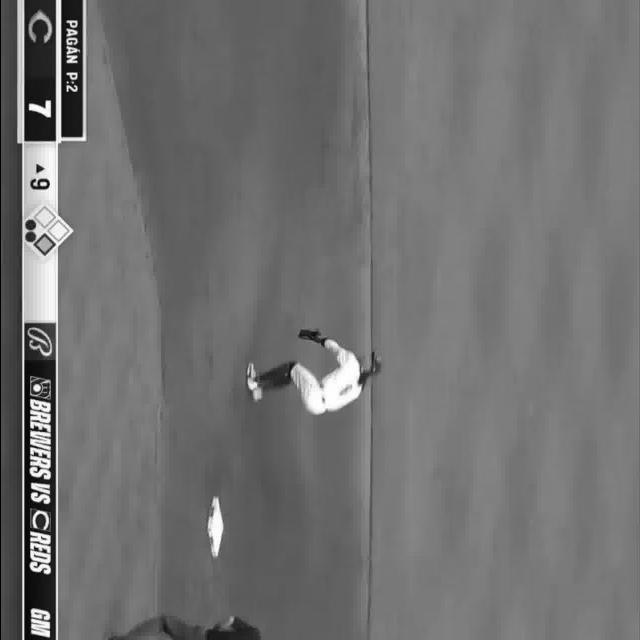base: (204, 495, 224, 559)
baseball_glove: (298, 327, 324, 343)
shoe: (243, 362, 263, 400)
